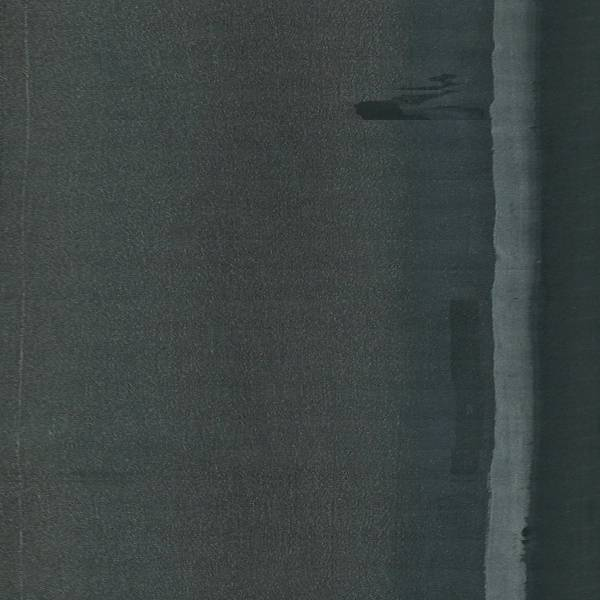road_damage: (348, 72, 490, 124)
